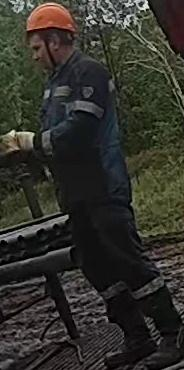gloves: (5, 126, 45, 165)
helmet: (25, 1, 76, 33)
vest: (36, 50, 131, 211)
